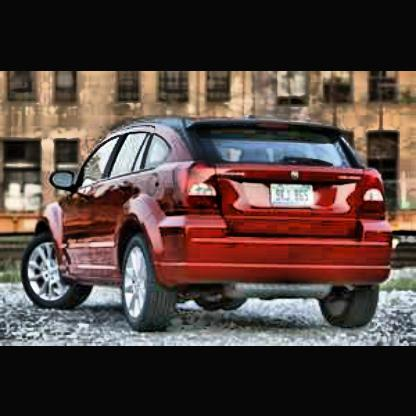Dodge Caliber Wagon 2012: (21, 114, 398, 337)
